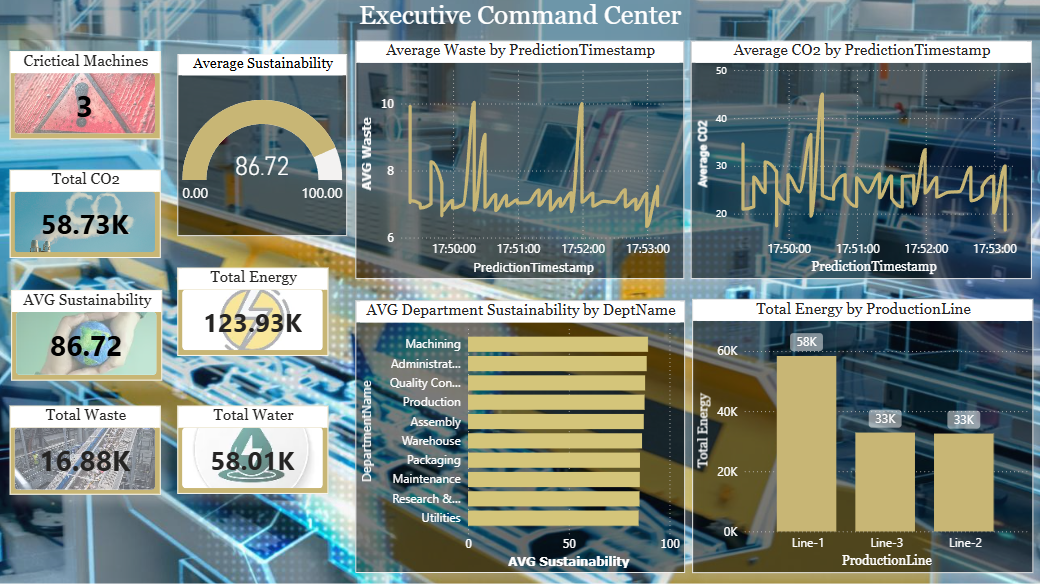

What the dashboard file says about the page in this screenshot:
{"tool":"powerbi","page":{"name":"Executive Command Center","canvas":[1280,720],"ordinal":0},"visuals":[{"type":"textbox","box":[0,0,1280,53.8],"z":0},{"type":"cardVisual","title":"Crictical Machines","fields":{"Data":["Departments.Critical Machines"]},"box":[15.1,67.2,184.8,107.5],"z":1000},{"type":"cardVisual","title":"Total CO2","fields":{"Data":["Departments.Total CO2"]},"box":[15.1,213.3,184.8,107.5],"z":2000},{"type":"cardVisual","title":"Total Waste","fields":{"Data":["Departments.Total Waste"]},"box":[15.1,502.3,184.8,109.2],"z":3000},{"type":"cardVisual","title":"AVG Sustainability","fields":{"Data":["Departments.Average Sustainability"]},"box":[16.8,359.5,184.8,110.9],"z":4000},{"type":"cardVisual","title":"Total Energy","fields":{"Data":["Departments.Total Energy"]},"box":[220.1,332.6,184.8,107.5],"z":5000},{"type":"cardVisual","title":"Total Water","fields":{"Data":["Departments.Total Water"]},"box":[220.1,502.3,184.8,107.5],"z":6000},{"type":"gauge","fields":{"Y":["Departments.Average Sustainability"]},"box":[220.1,70.6,208.3,223.4],"z":7000},{"type":"clusteredBarChart","title":"AVG Department Sustainability by DeptName","fields":{"Y":["Departments.Average Department Sustainability"],"Category":["vw_IndustrialDashboard.DepartmentName"]},"box":[438,372,404,334],"z":8000},{"type":"clusteredColumnChart","fields":{"Category":["vw_IndustrialDashboard.ProductionLine"],"Y":["Departments.Total Energy"]},"box":[850,370,418,336],"z":10000},{"type":"lineChart","fields":{"Y":["Departments.Average Waste"],"Category":["vw_IndustrialDashboard.PredictionTimestamp"]},"box":[438.4,53.8,403.1,292.3],"z":11000},{"type":"lineChart","fields":{"Y":["Departments.Average CO2"],"Category":["vw_IndustrialDashboard.PredictionTimestamp"]},"box":[850,53.8,418.3,292.3],"z":12000}]}

Visuals, with their boxes in screenshot pixels (x1, y1, x2, y2), scaled from the page's 1280x720 canvas onto the 1040x584 screenshot:
textbox: rect(0, 0, 1039, 44)
"Crictical Machines" cardVisual: rect(12, 55, 162, 142)
"Total CO2" cardVisual: rect(12, 173, 162, 260)
"Total Waste" cardVisual: rect(12, 407, 162, 496)
"AVG Sustainability" cardVisual: rect(14, 292, 164, 382)
"Total Energy" cardVisual: rect(179, 270, 329, 357)
"Total Water" cardVisual: rect(179, 407, 329, 495)
gauge - Departments.Average Sustainability: rect(179, 57, 348, 238)
"AVG Department Sustainability by DeptName" clusteredBarChart: rect(356, 302, 684, 573)
clusteredColumnChart - vw_IndustrialDashboard.ProductionLine x Departments.Total Energy: rect(691, 300, 1030, 573)
lineChart - Departments.Average Waste x vw_IndustrialDashboard.PredictionTimestamp: rect(356, 44, 684, 281)
lineChart - Departments.Average CO2 x vw_IndustrialDashboard.PredictionTimestamp: rect(691, 44, 1030, 281)
